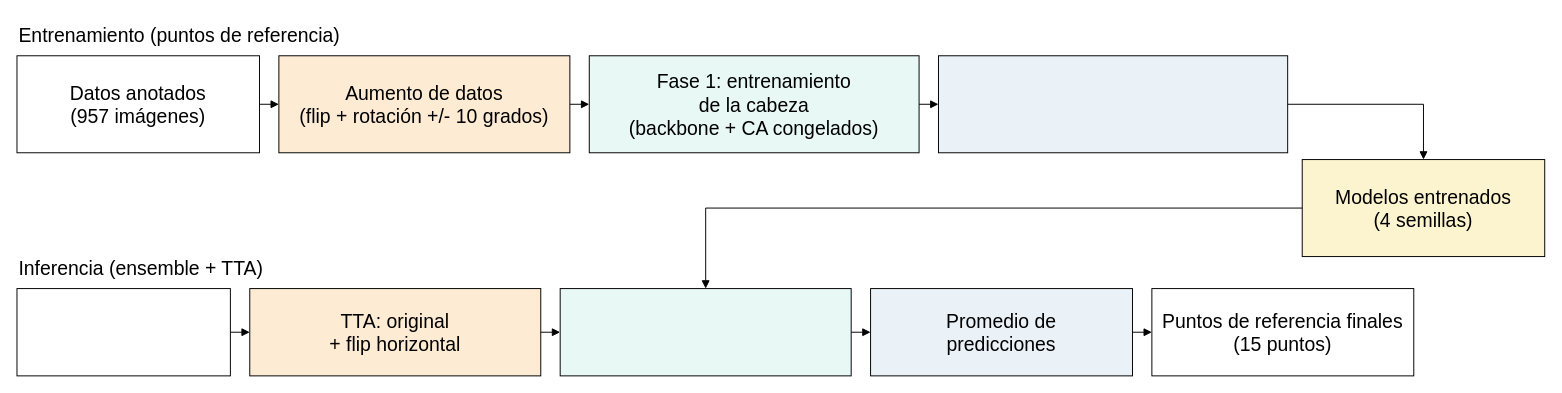
Some shapes in this 1562 by 393 pixel diagram are drawn without their labels. Here are the shapes that lost their labels. From the top down, the centre of each, then its label:
At point 1113,104: "Fase 2: ajuste fino completo (LR diferenciadas + Cosine Annealing)".
At point 123,332: "Imagen de entrada".
At point 705,332: "Ensamble de modelos (k=4)".
